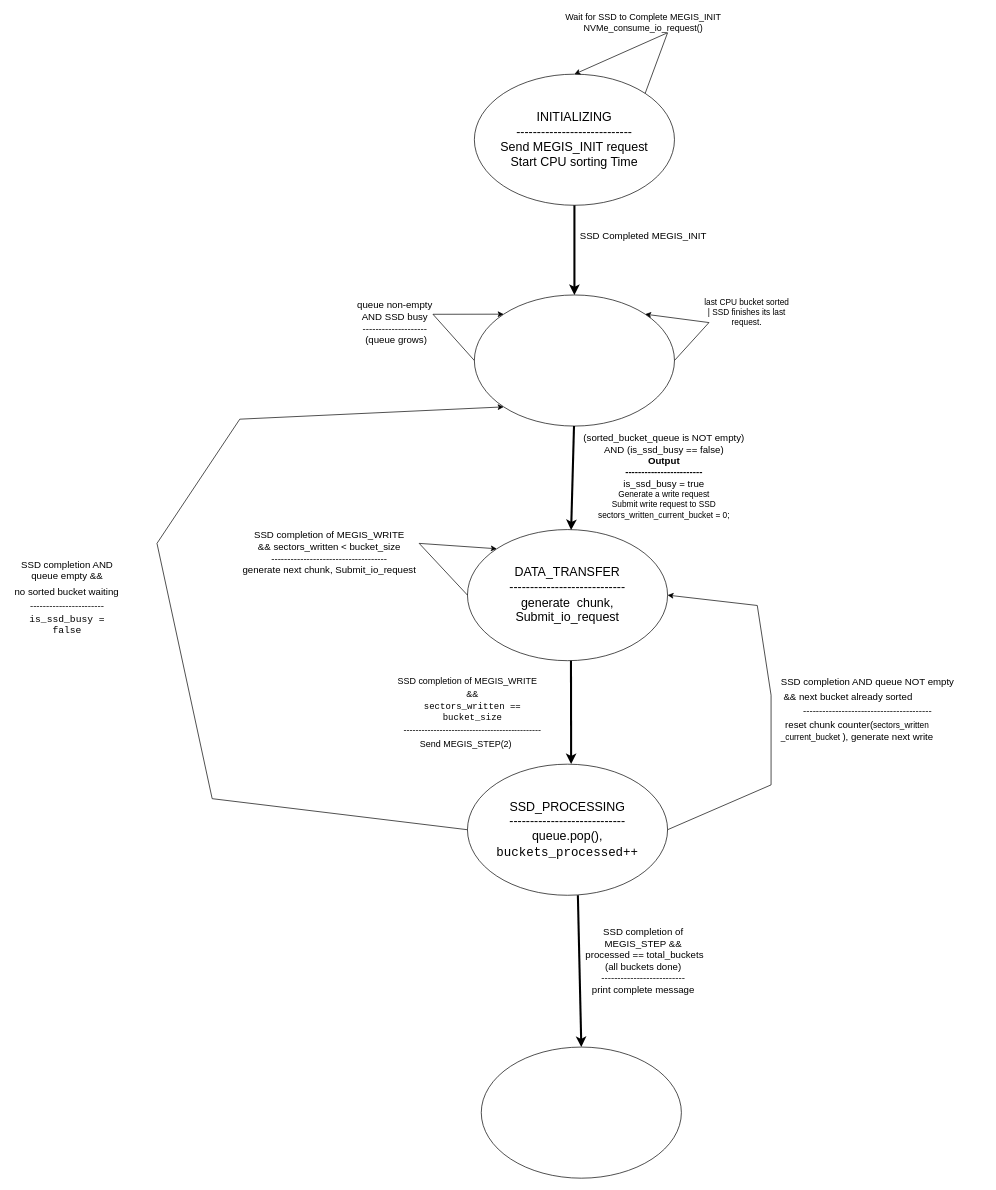
The diagram is 996 pixels wide and 1190 high, and some of its shapes have lost their labels. The shapes that lost their labels are listed below. From the top down, each one's box as (x1, y1, x2, y2) in pixels, then its label:
(474, 294, 674, 426): IDLE ---------------------------- CPU is working (sorting buckets) Waiting
(481, 1046, 681, 1178): COMPLETED ---------------------------- simulation ends
